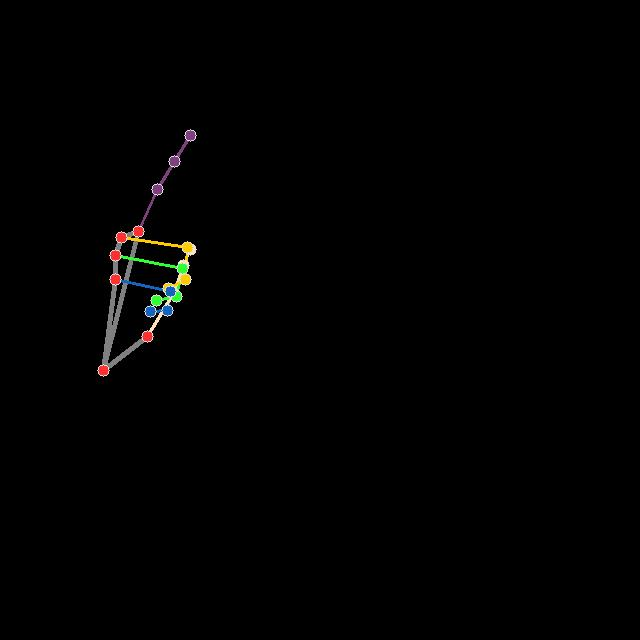gun: (92, 127, 204, 379)
